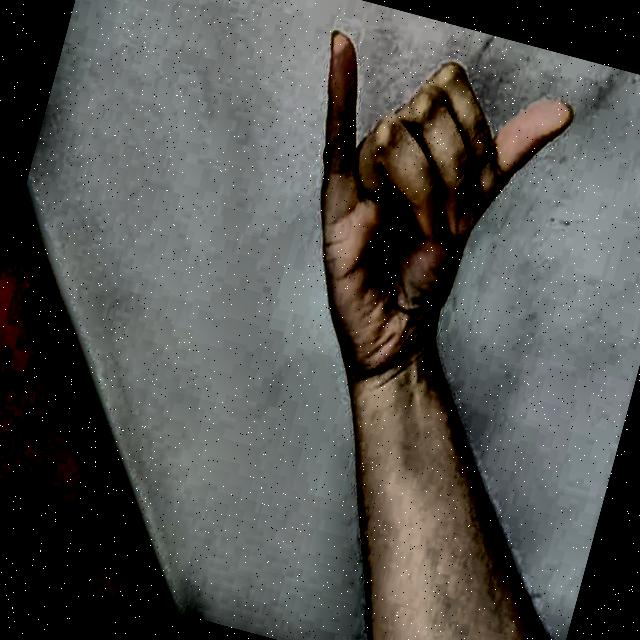Oi: (222, 0, 598, 445)
